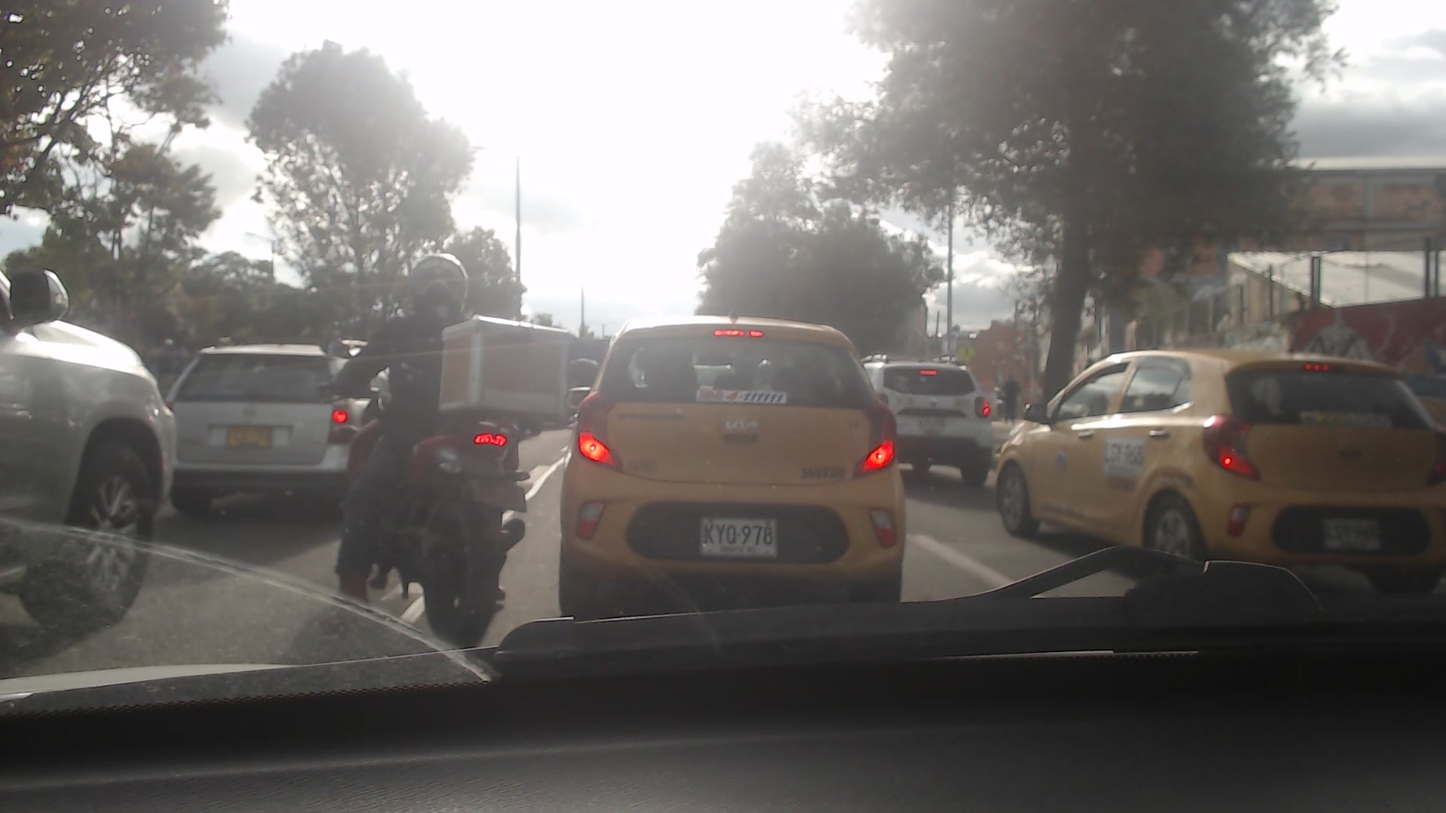car: (994, 349, 1446, 597), (556, 314, 913, 606), (164, 335, 357, 502), (859, 352, 991, 484)
motorcycle: (334, 392, 528, 647)
person: (342, 250, 506, 592)
